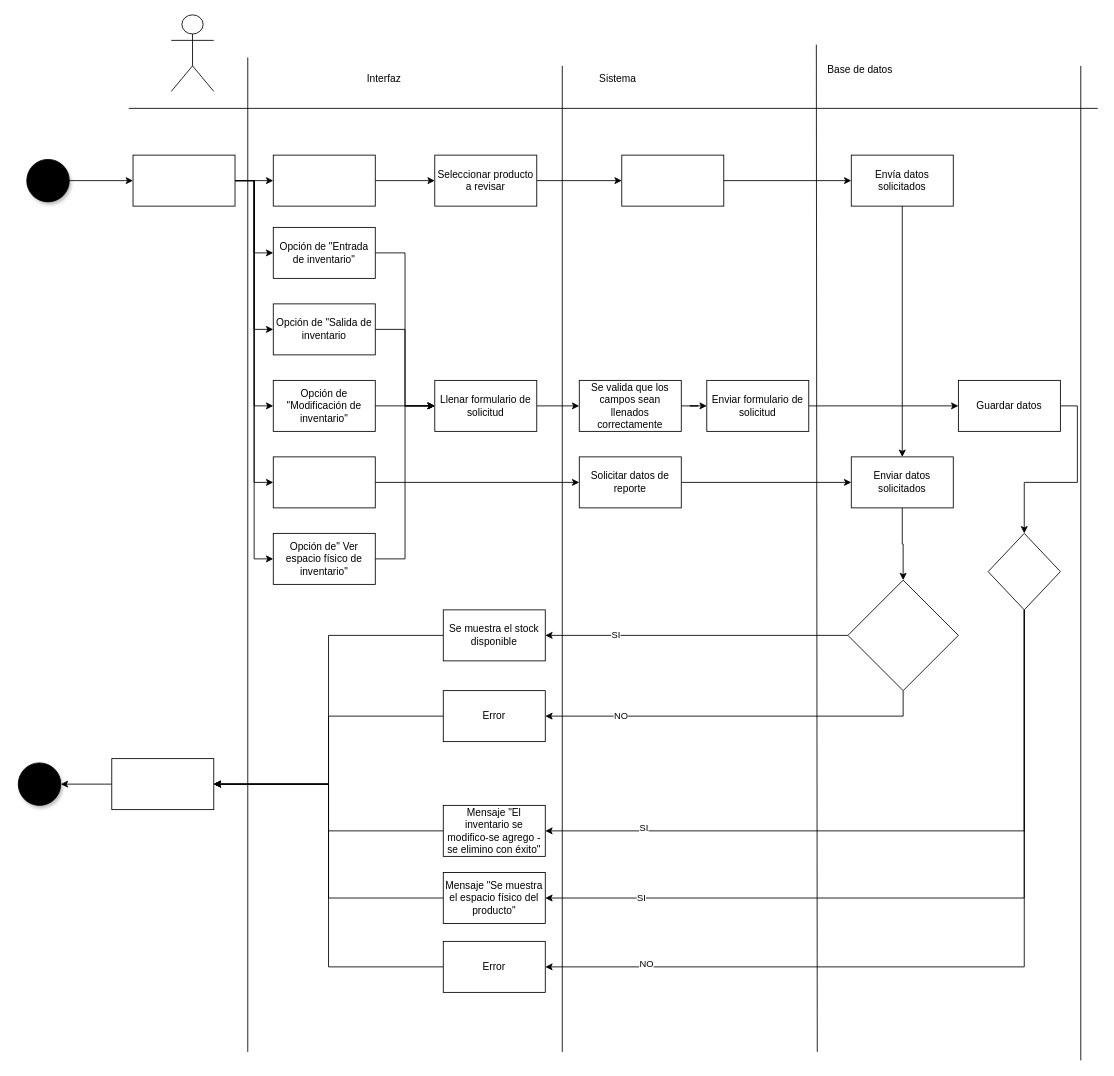
This 1114x1076 diagram has some shape labels left out. Here are the shapes that lost their labels. From the top down, the centre of each, then its label:
(x=192, y=52): Usuario
(x=183, y=180): Iniciar sesión
(x=323, y=180): Opción de "Ver stock disponible"
(x=672, y=180): Solicitar datos del producto buscado
(x=323, y=482): Opción de "Generación de reporte anual de inventario"
(x=1023, y=571): ¿Los datos se guardan?
(x=902, y=635): ¿Los datos se envían correctamente?
(x=162, y=784): Cerrar Sesión
